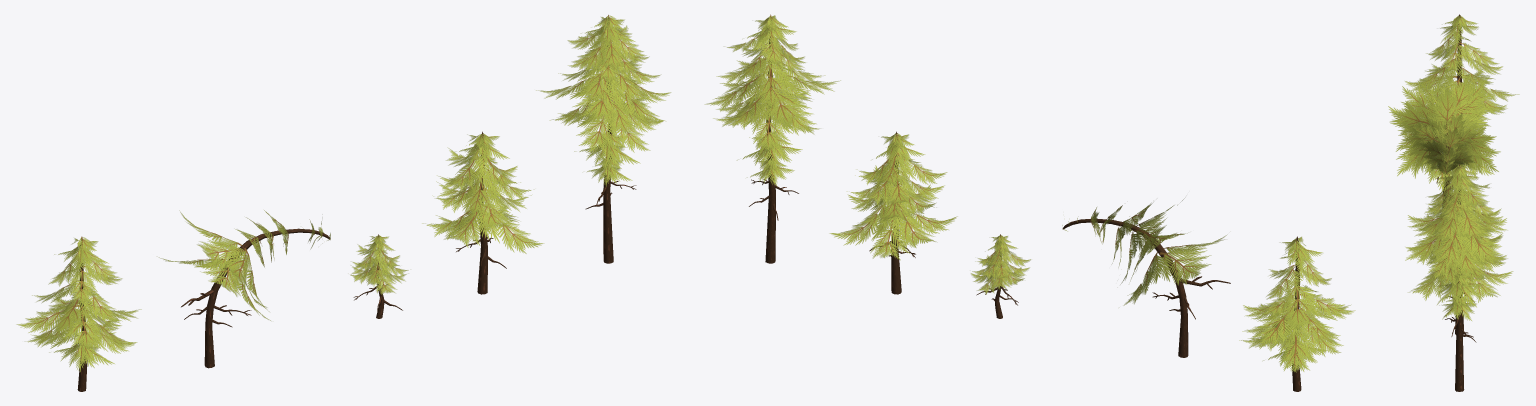
The model's file is arbre_pine.glb.
3 renders of one model, left to right at view 1: azimuth 30°, elevation 25°; view 2: azimuth 150°, elevation 25°; view 3: azimuth 270°, elevation 25°, orthographic. The views are drawn at different scales.
Visible parts, largest first — view 1: PineTree_2, PineTree_5, PineTree_1, PineTree_4, PineTree_3; view 2: PineTree_2, PineTree_1, PineTree_5, PineTree_4, PineTree_3; view 3: PineTree_2, PineTree_4, PineTree_5, PineTree_1.
Part boxes in pixels (x1,y1,x2,y2): PineTree_2: [536, 15, 671, 263]; PineTree_5: [16, 236, 141, 391]; PineTree_1: [422, 131, 543, 294]; PineTree_4: [159, 210, 330, 368]; PineTree_3: [350, 234, 408, 318]; PineTree_2: [704, 14, 840, 263]; PineTree_1: [829, 131, 957, 294]; PineTree_5: [1239, 236, 1355, 391]; PineTree_4: [1062, 198, 1230, 357]; PineTree_3: [970, 234, 1030, 318]; PineTree_2: [1405, 164, 1507, 391]; PineTree_4: [1388, 73, 1500, 208]; PineTree_5: [1405, 14, 1519, 129]; PineTree_1: [1407, 192, 1513, 334].
Size of the model in its own units: 18.69 by 6.92 by 3.74.
Materials: 2 (2 with a texture image).
